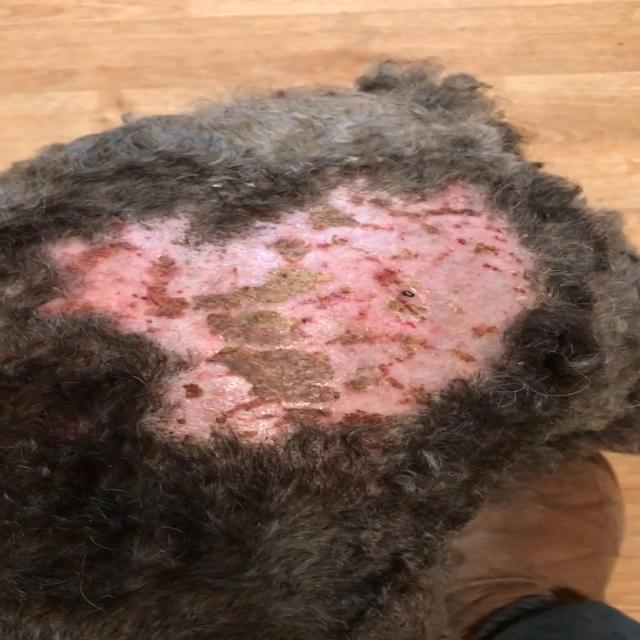allergic dermatitis: (13, 171, 535, 461)
